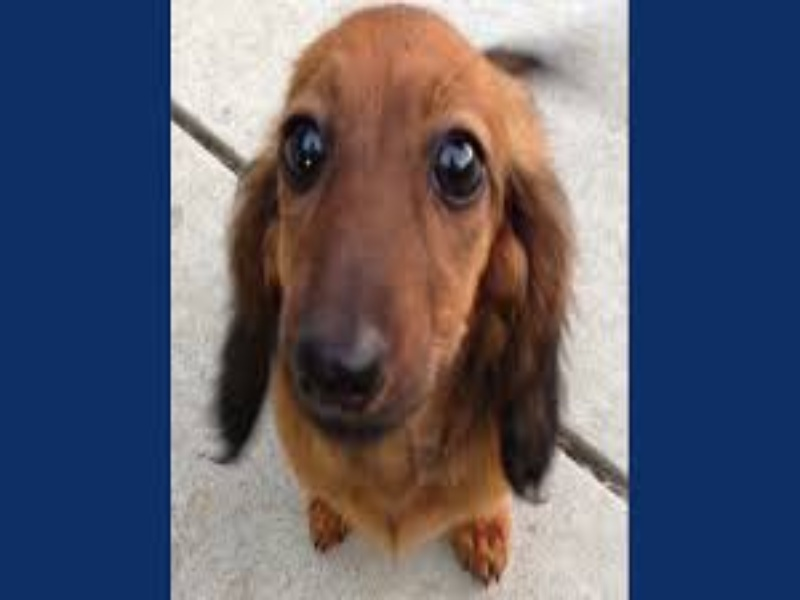dog: (205, 1, 567, 585)
